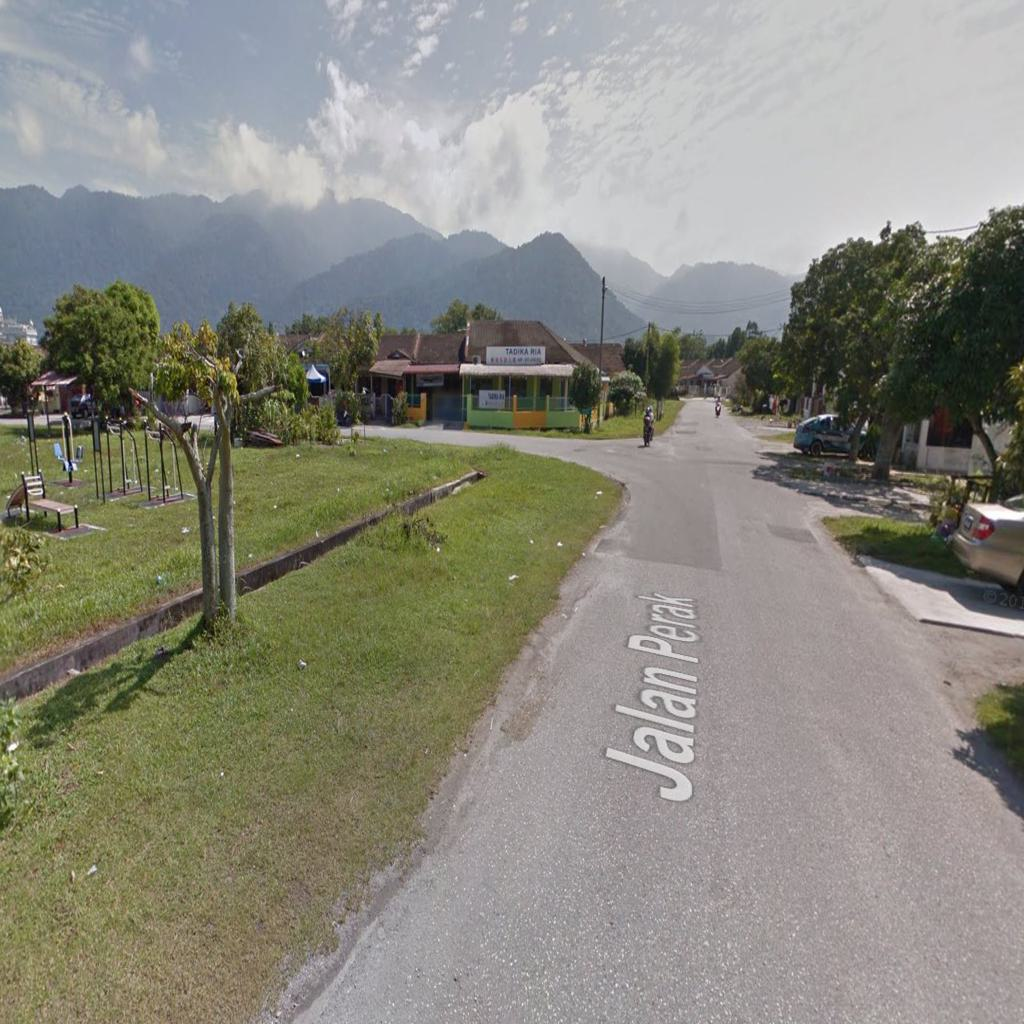Junction: (450, 404, 680, 516)
